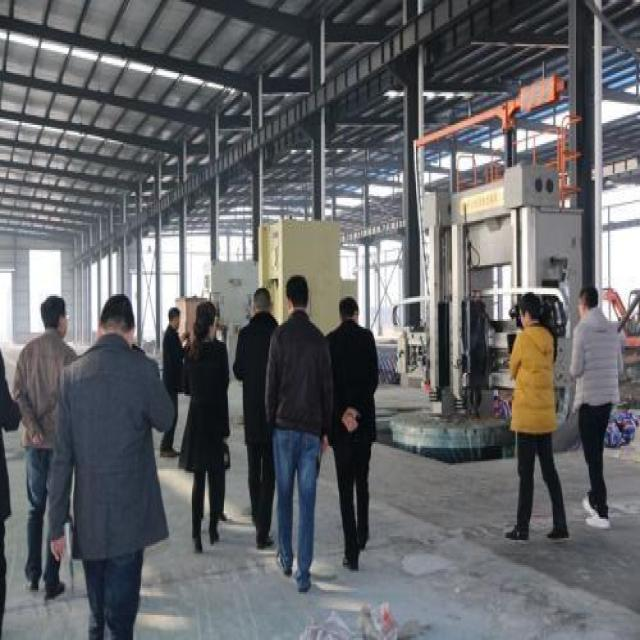no-helmet: (98, 290, 140, 352), (36, 292, 72, 342), (513, 288, 544, 334), (282, 273, 310, 323), (195, 294, 220, 344), (247, 284, 275, 327), (574, 282, 602, 325), (337, 290, 361, 331), (165, 300, 181, 332)
